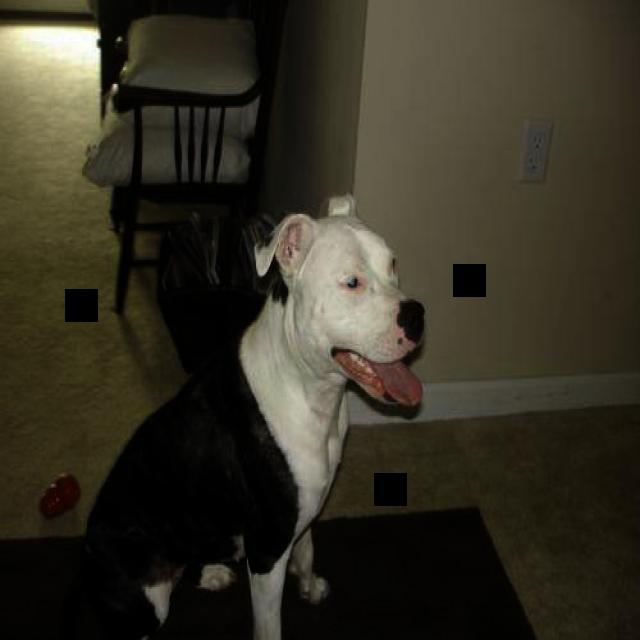adult_dog: (62, 210, 425, 640)
